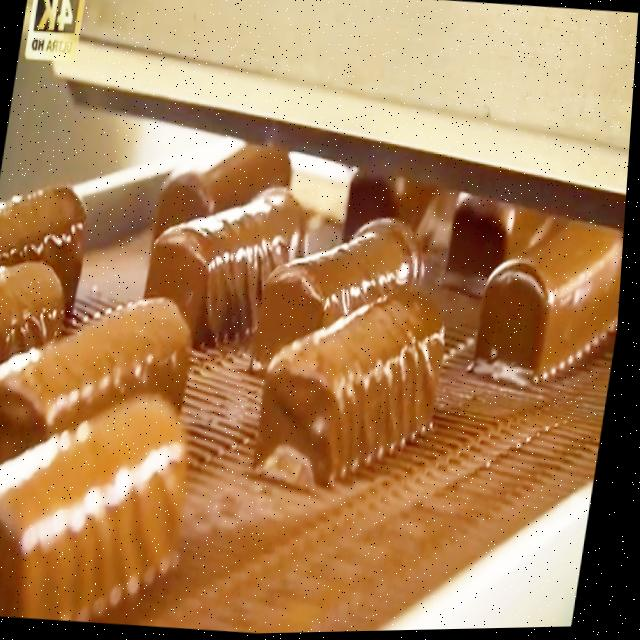Choco: (0, 375, 210, 626), (253, 271, 461, 500), (0, 277, 207, 492), (142, 172, 332, 356), (253, 202, 437, 380), (473, 210, 628, 390), (148, 131, 301, 278), (0, 240, 79, 448), (0, 174, 100, 314), (439, 189, 533, 299), (329, 173, 432, 257)
